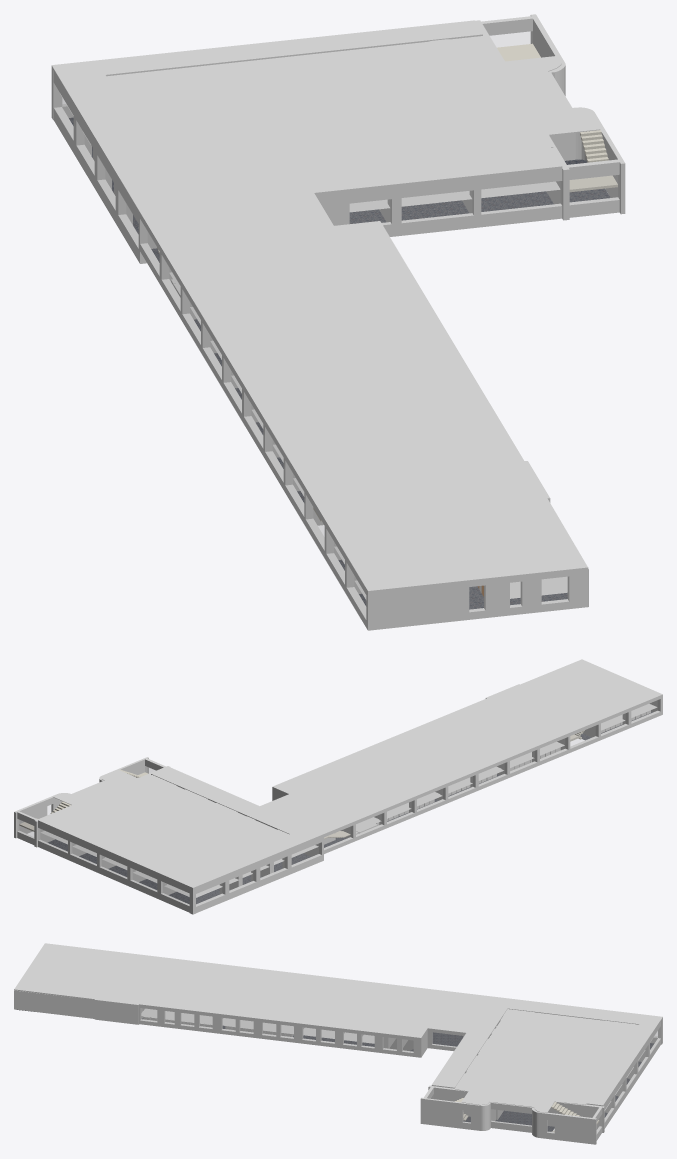
3 views of the same model, one above another, from view 1: azimuth 30°, elevation 25°; view 2: azimuth 150°, elevation 25°; view 3: azimuth 270°, elevation 25° (orthographic). The views are drawn at different scales.
Parts seen in each view (by area): view 1: 5, 6.022, 5.416, 1.498, 5.540, 5.541, 401б, 403б, 401а, Туалет (М), 403а, 406 (+10 smaller); view 2: 5, 6.022, 1.498, 5.398, Туалет (М), 403а, 403б, 401б, 401а; view 3: 5, 6.022, 5.412, 5.380, 5.398, 5.417, 1.499, 1.498, 5.399, 5.405, 5.549, 65120.0 (+13 smaller).
Boxes of the visible parts, x1,y1,x2,y2 form: 5: (51, 20, 588, 592); 6.022: (106, 35, 600, 183); 5.416: (366, 582, 469, 630); 1.498: (69, 117, 610, 234); 5.540: (481, 181, 561, 213); 5.541: (402, 190, 473, 222); 401б: (334, 49, 403, 78); 403б: (171, 67, 241, 96); 401а: (413, 39, 482, 68); Туалет (М): (310, 229, 379, 258); 403а: (251, 58, 320, 87); 406: (304, 147, 373, 171); 5: (38, 659, 662, 888); 6.022: (50, 770, 276, 875); 1.498: (47, 839, 310, 904); 5.398: (14, 799, 47, 838); Туалет (М): (288, 779, 323, 794); 403а: (123, 835, 158, 850); 403б: (152, 848, 187, 862); 401б: (92, 822, 127, 836); 401а: (61, 810, 96, 824); 5: (14, 943, 662, 1106); 6.022: (455, 1012, 638, 1112); 5.412: (14, 990, 143, 1024); 5.380: (420, 1097, 463, 1128); 5.398: (554, 1113, 596, 1144); 5.417: (547, 1102, 604, 1132); 1.499: (17, 1009, 463, 1051); 1.498: (463, 1043, 654, 1131); 5.399: (471, 1102, 491, 1130); 5.405: (428, 1085, 498, 1120); 5.549: (491, 1109, 531, 1125); 65120.0: (222, 1018, 293, 1033).
Bounding box in the file's own units: 5974 × 430 × 9341.
